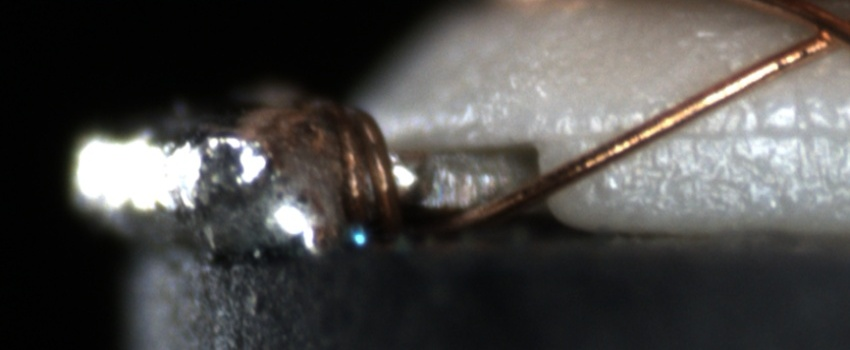CL: (792, 5, 850, 59)
DL: (568, 100, 850, 164)
TE: (325, 92, 395, 241)
